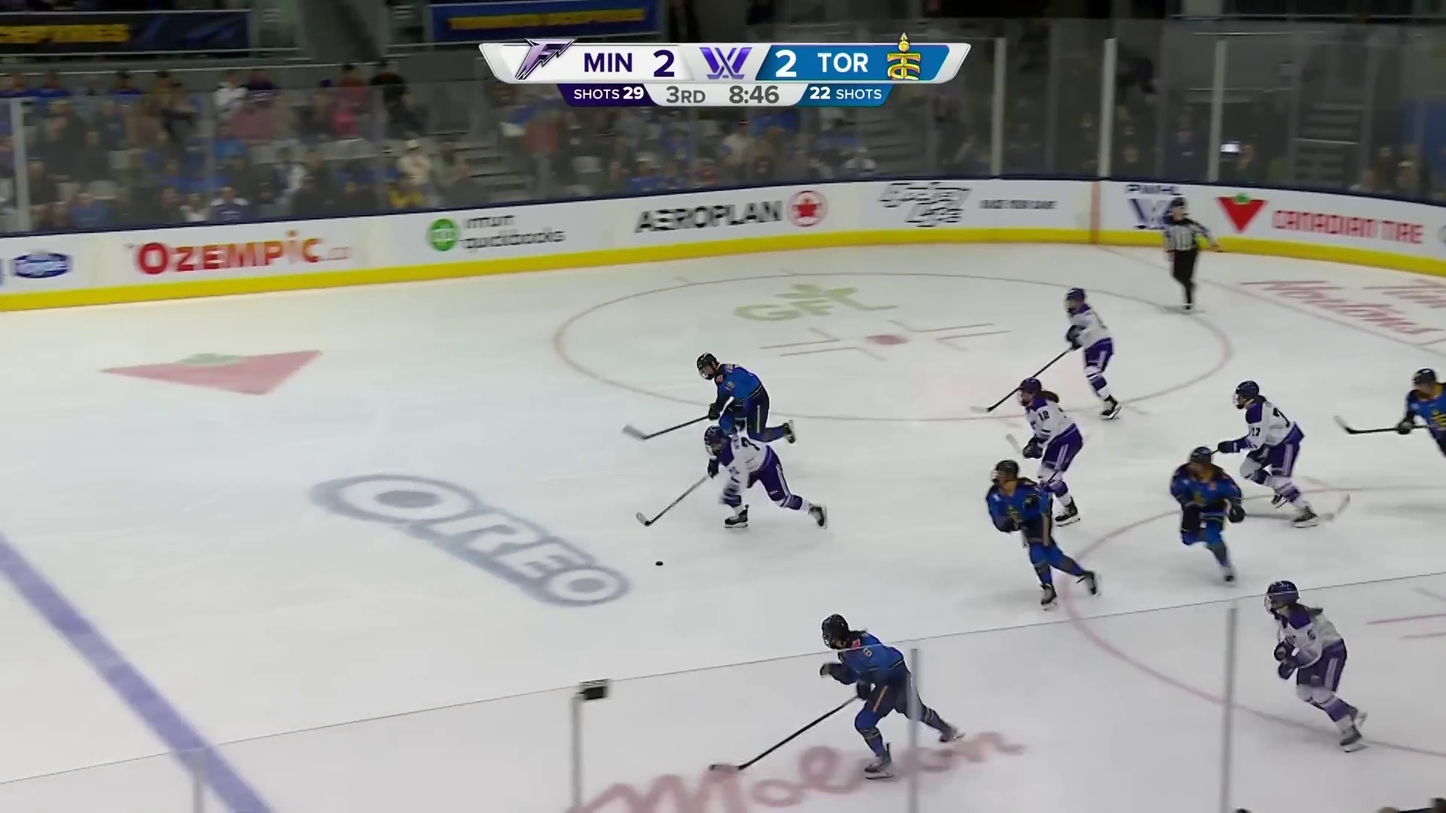player: (813, 610, 959, 776), (1265, 578, 1372, 752), (984, 458, 1102, 609), (1218, 377, 1324, 527), (701, 422, 827, 530), (1165, 444, 1248, 583), (1014, 374, 1087, 525), (696, 351, 801, 440), (1061, 284, 1123, 419)
puck: (653, 558, 668, 569)
referee: (1160, 197, 1221, 308)
